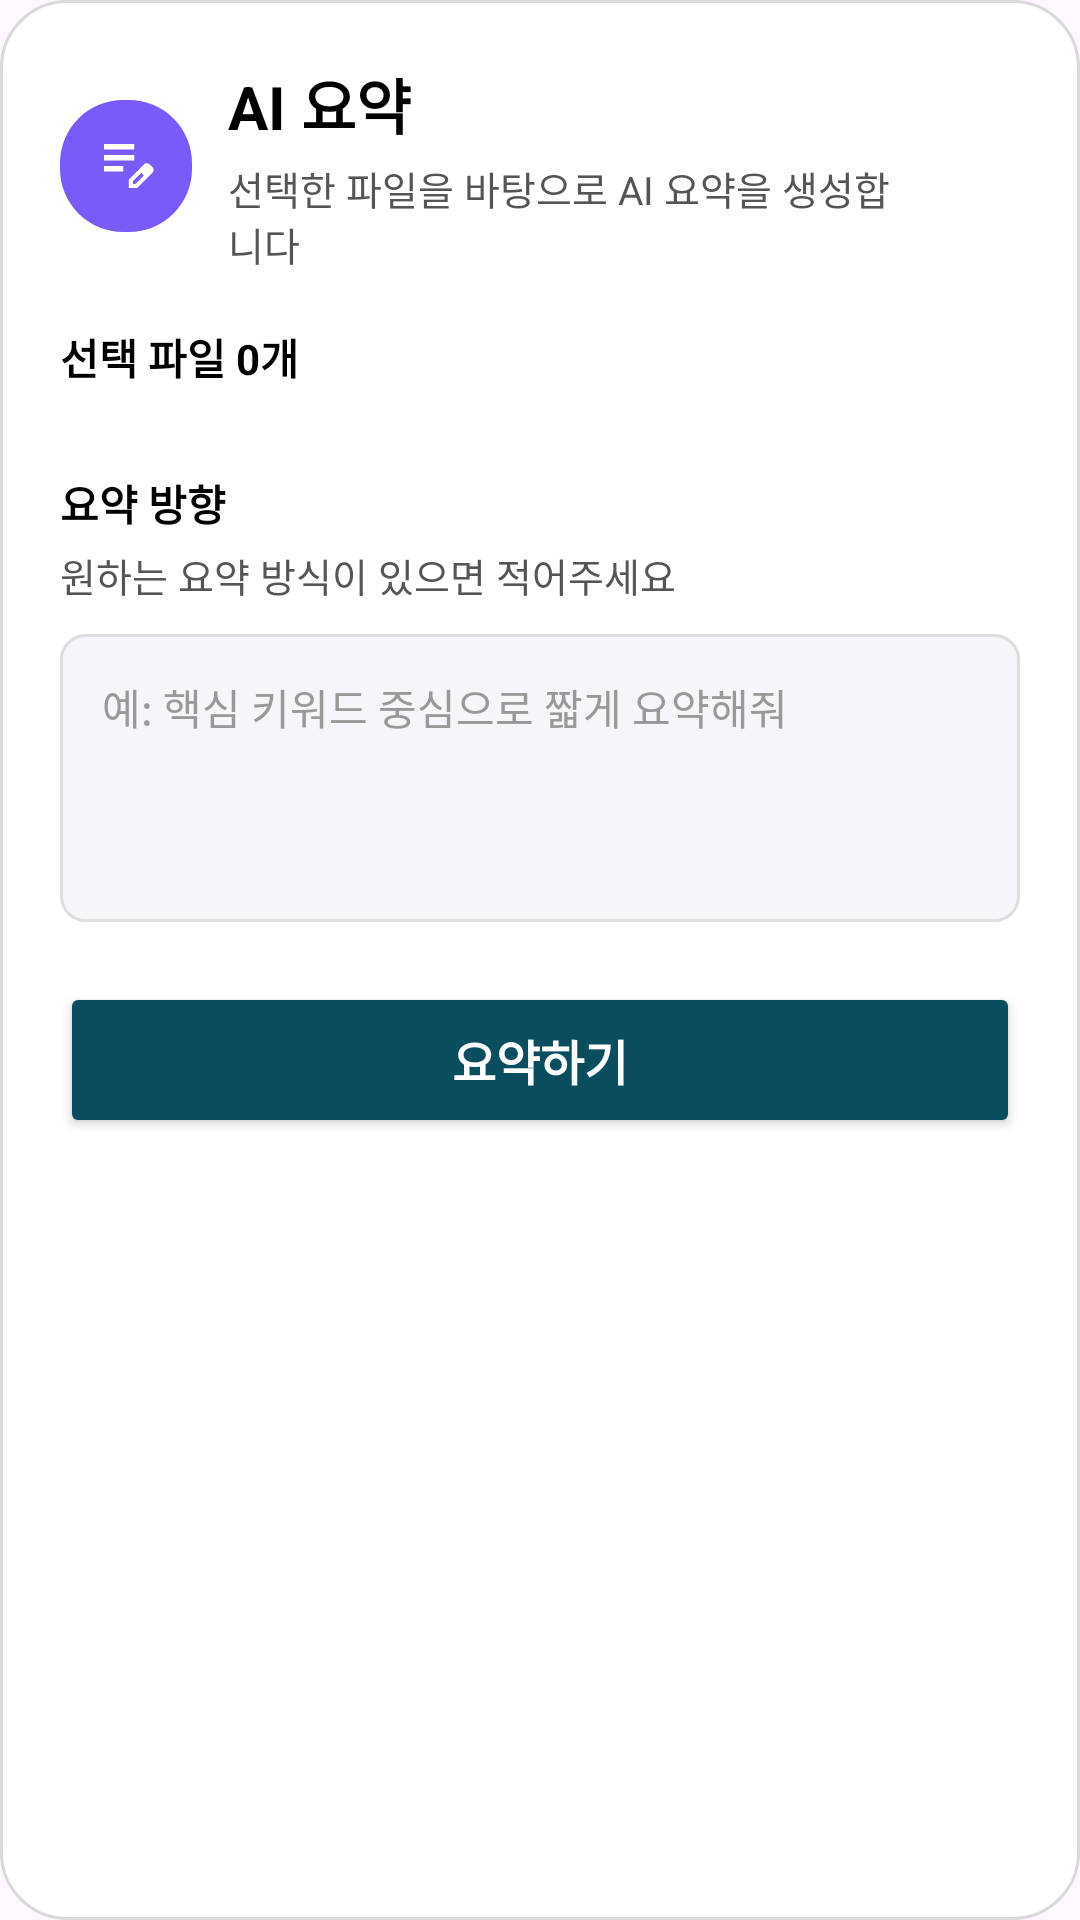

Point at icon controls on the screen. Image size 1080×1920, points as (x,y).
edit note: (129,166)
